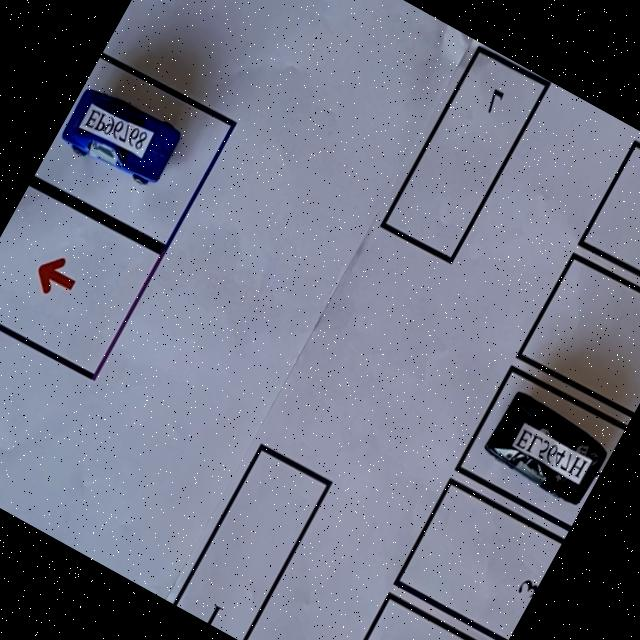car: (476, 385, 618, 513), (52, 73, 192, 200)
